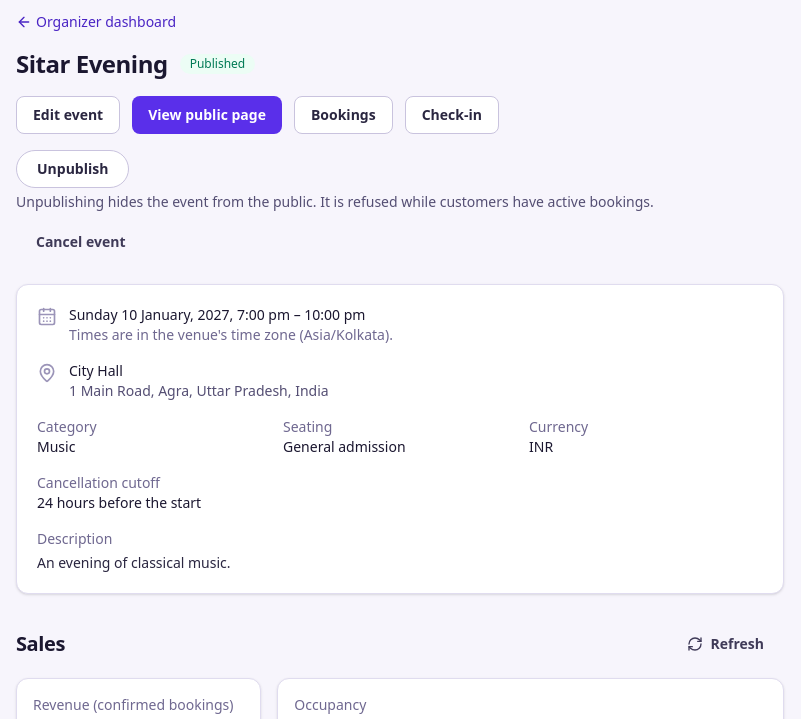
OrganizerEventPage › publishing and cancelling › unpublishes a published event
Click the button "Unpublish" at (73, 169), box [16, 150, 129, 188]
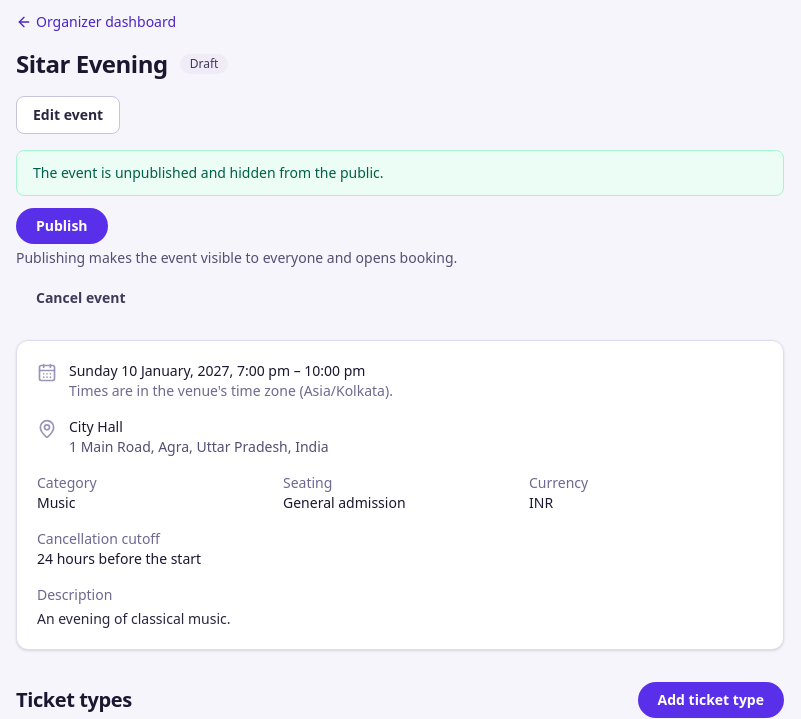
Check: the text "Draft" is shown, box [180, 54, 228, 74]
Check: the link "View public page" is gone
